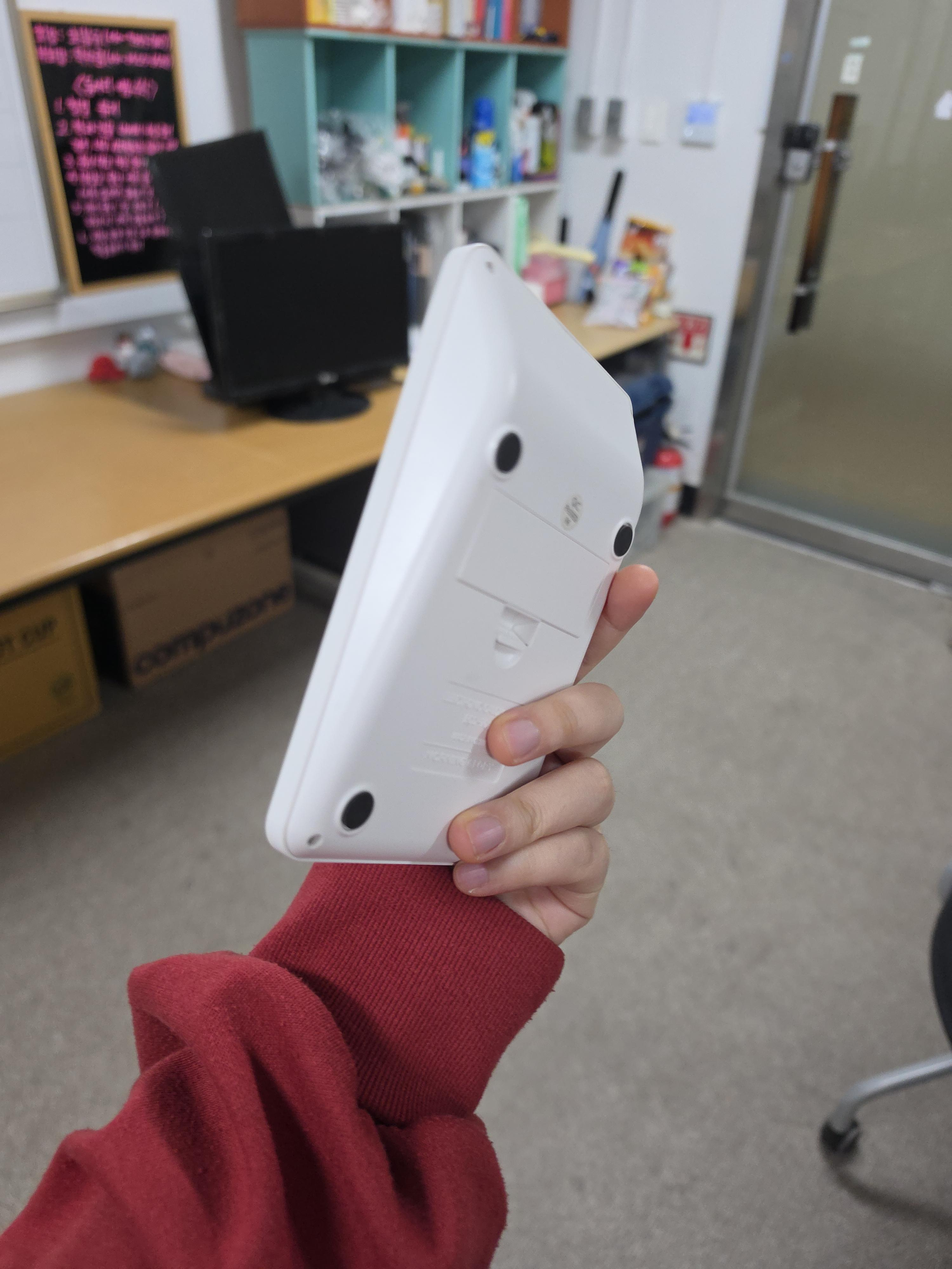calculator: (265, 242, 644, 866)
